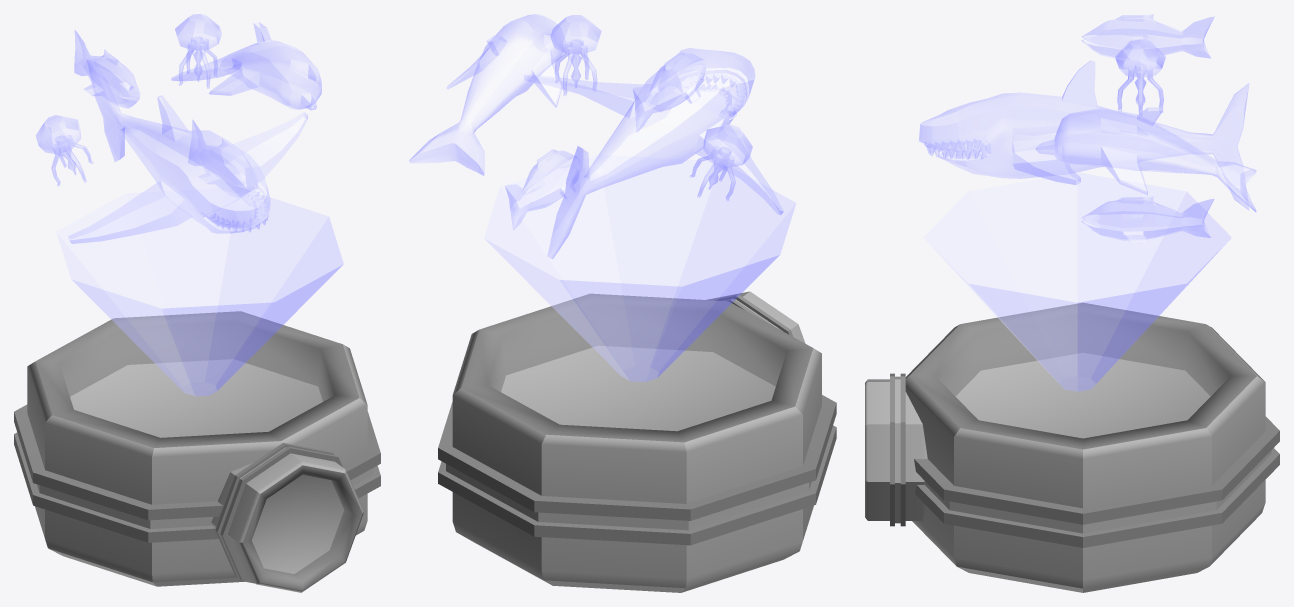
The model's file is ocean_hologram.glb.
3 renders of one model, left to right at view 1: azimuth 30°, elevation 25°; view 2: azimuth 150°, elevation 25°; view 3: azimuth 270°, elevation 25°, orthographic. The views are drawn at different scales.
Parts seen in each view (by area): view 1: pCylinder12, RAY1, base2, pCylinder11, pCylinder2, pCylinder8, pCylinder10, pCylinder13, pCylinder9; view 2: pCylinder12, RAY1, base2, pCylinder2, pCylinder10, pCylinder8, pCylinder13, pCylinder9, pCylinder11; view 3: pCylinder12, RAY1, base2, pCylinder2, pCylinder11, pCylinder8, pCylinder10, pCylinder13, pCylinder9.
Part boxes in pixels (bbox=[...]): pCylinder12: bbox=[14, 311, 380, 586]; RAY1: bbox=[56, 188, 343, 396]; base2: bbox=[68, 58, 307, 243]; pCylinder11: bbox=[211, 442, 364, 592]; pCylinder2: bbox=[171, 22, 321, 109]; pCylinder8: bbox=[74, 30, 139, 108]; pCylinder10: bbox=[188, 120, 255, 197]; pCylinder13: bbox=[175, 14, 221, 88]; pCylinder9: bbox=[36, 115, 93, 186]; pCylinder12: bbox=[438, 293, 836, 592]; RAY1: bbox=[484, 155, 795, 381]; base2: bbox=[524, 48, 783, 258]; pCylinder2: bbox=[409, 14, 565, 175]; pCylinder10: bbox=[505, 149, 580, 230]; pCylinder8: bbox=[633, 52, 705, 131]; pCylinder13: bbox=[550, 15, 601, 95]; pCylinder9: bbox=[689, 125, 752, 201]; pCylinder11: bbox=[706, 291, 805, 343]; pCylinder12: bbox=[905, 302, 1279, 592]; RAY1: bbox=[923, 172, 1231, 391]; base2: bbox=[919, 60, 1248, 209]; pCylinder2: bbox=[1036, 107, 1255, 211]; pCylinder11: bbox=[865, 373, 927, 526]; pCylinder8: bbox=[1082, 14, 1214, 60]; pCylinder10: bbox=[1082, 196, 1214, 243]; pCylinder13: bbox=[1115, 40, 1165, 118]; pCylinder9: bbox=[1116, 40, 1165, 113].
Bounding box in the file's own units: 0.1537 × 0.2141 × 0.162.
Materials: 2 (1 with a texture image).
